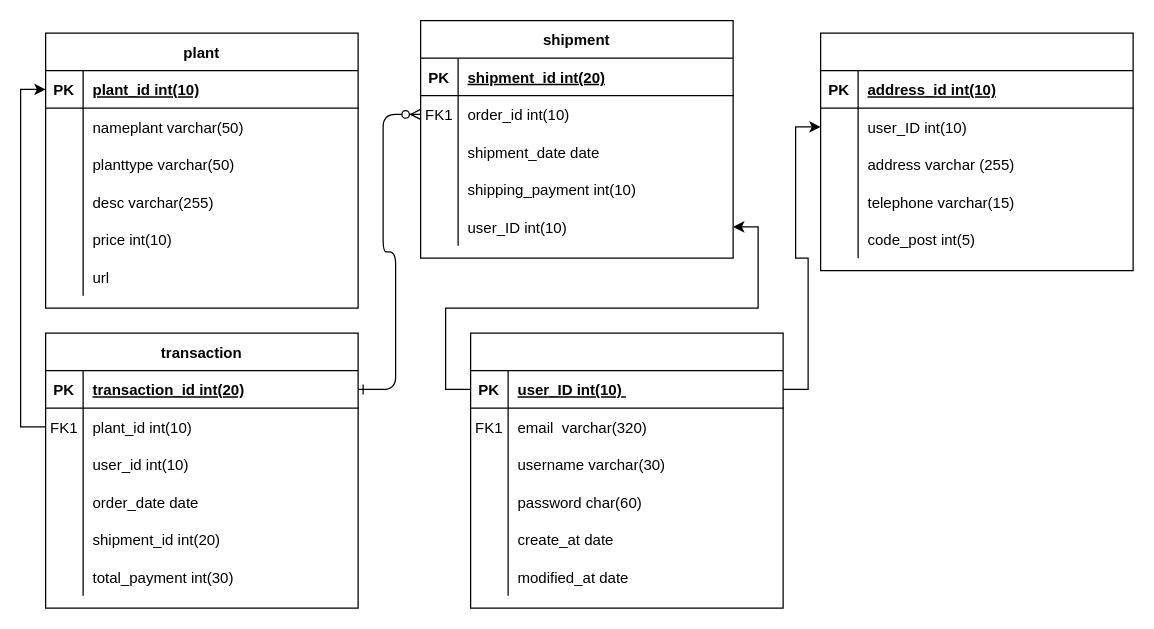
Some shapes in this 1154 by 629 pixel diagram are drawn without their labels. Each missing label, with the box of its shape:
user_address: (819, 32, 1133, 271)
userdata: (469, 332, 783, 608)
